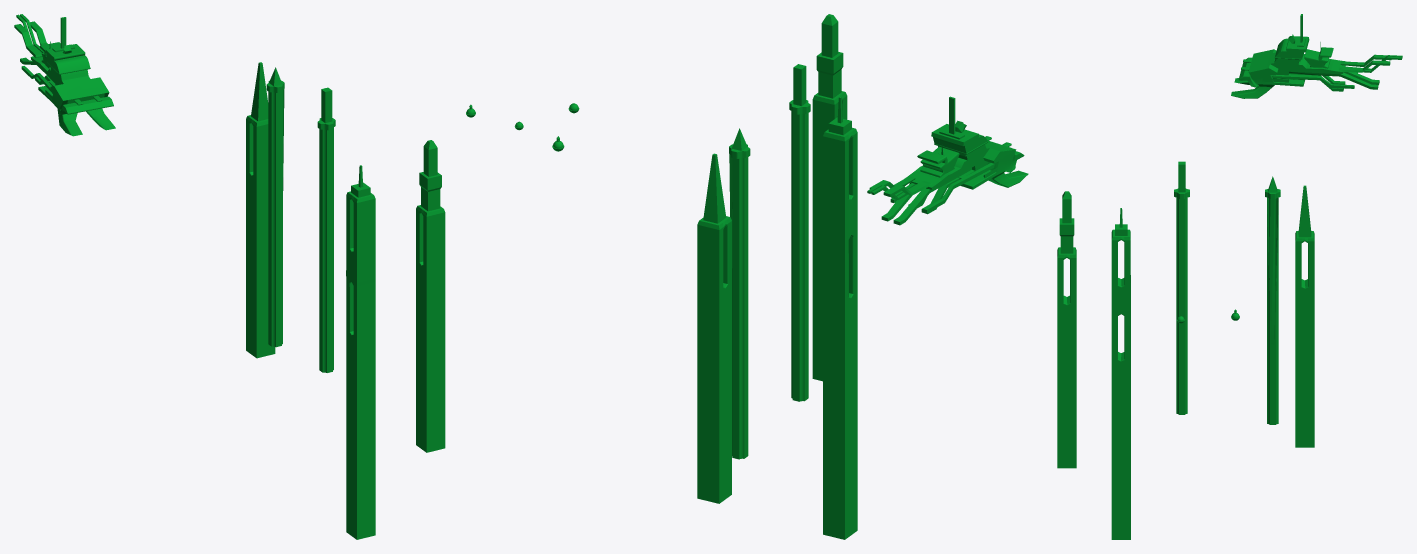
Rendered from BackGroundLow.fbx.
The picture shows the model from 3 angles, left to right: view 1: azimuth 30°, elevation 25°; view 2: azimuth 150°, elevation 25°; view 3: azimuth 270°, elevation 25°; orthographic projection. The views are drawn at different scales.
Parts seen in each view (by area): view 1: BG4_low, BG3_low, BG2_low, BigShip_low, BG1_low, BG5_low; view 2: BG4_low, BG2_low, BigShip_low, BG5_low, BG1_low, BG3_low; view 3: BG4_low, BigShip_low, BG3_low, BG2_low, BG5_low, BG1_low.
Boxes of the visible parts, left/top/right/bottom form: BG4_low: left=346, top=165, right=375, bottom=539; BG3_low: left=416, top=140, right=445, bottom=452; BG2_low: left=246, top=62, right=275, bottom=358; BigShip_low: left=14, top=14, right=115, bottom=136; BG1_low: left=266, top=67, right=284, bottom=347; BG5_low: left=317, top=87, right=335, bottom=372; BG4_low: left=823, top=97, right=857, bottom=539; BG2_low: left=697, top=153, right=731, bottom=503; BigShip_low: left=867, top=96, right=1028, bottom=225; BG5_low: left=789, top=64, right=810, bottom=401; BG1_low: left=729, top=128, right=750, bottom=459; BG3_low: left=812, top=14, right=847, bottom=381; BG4_low: left=1111, top=208, right=1130, bottom=539; BigShip_low: left=1231, top=14, right=1402, bottom=98; BG3_low: left=1057, top=191, right=1076, bottom=468; BG2_low: left=1295, top=185, right=1314, bottom=447; BG5_low: left=1174, top=161, right=1189, bottom=414; BG1_low: left=1265, top=176, right=1280, bottom=424.
Bounding box in the file's own units: 336 × 374 × 268.
